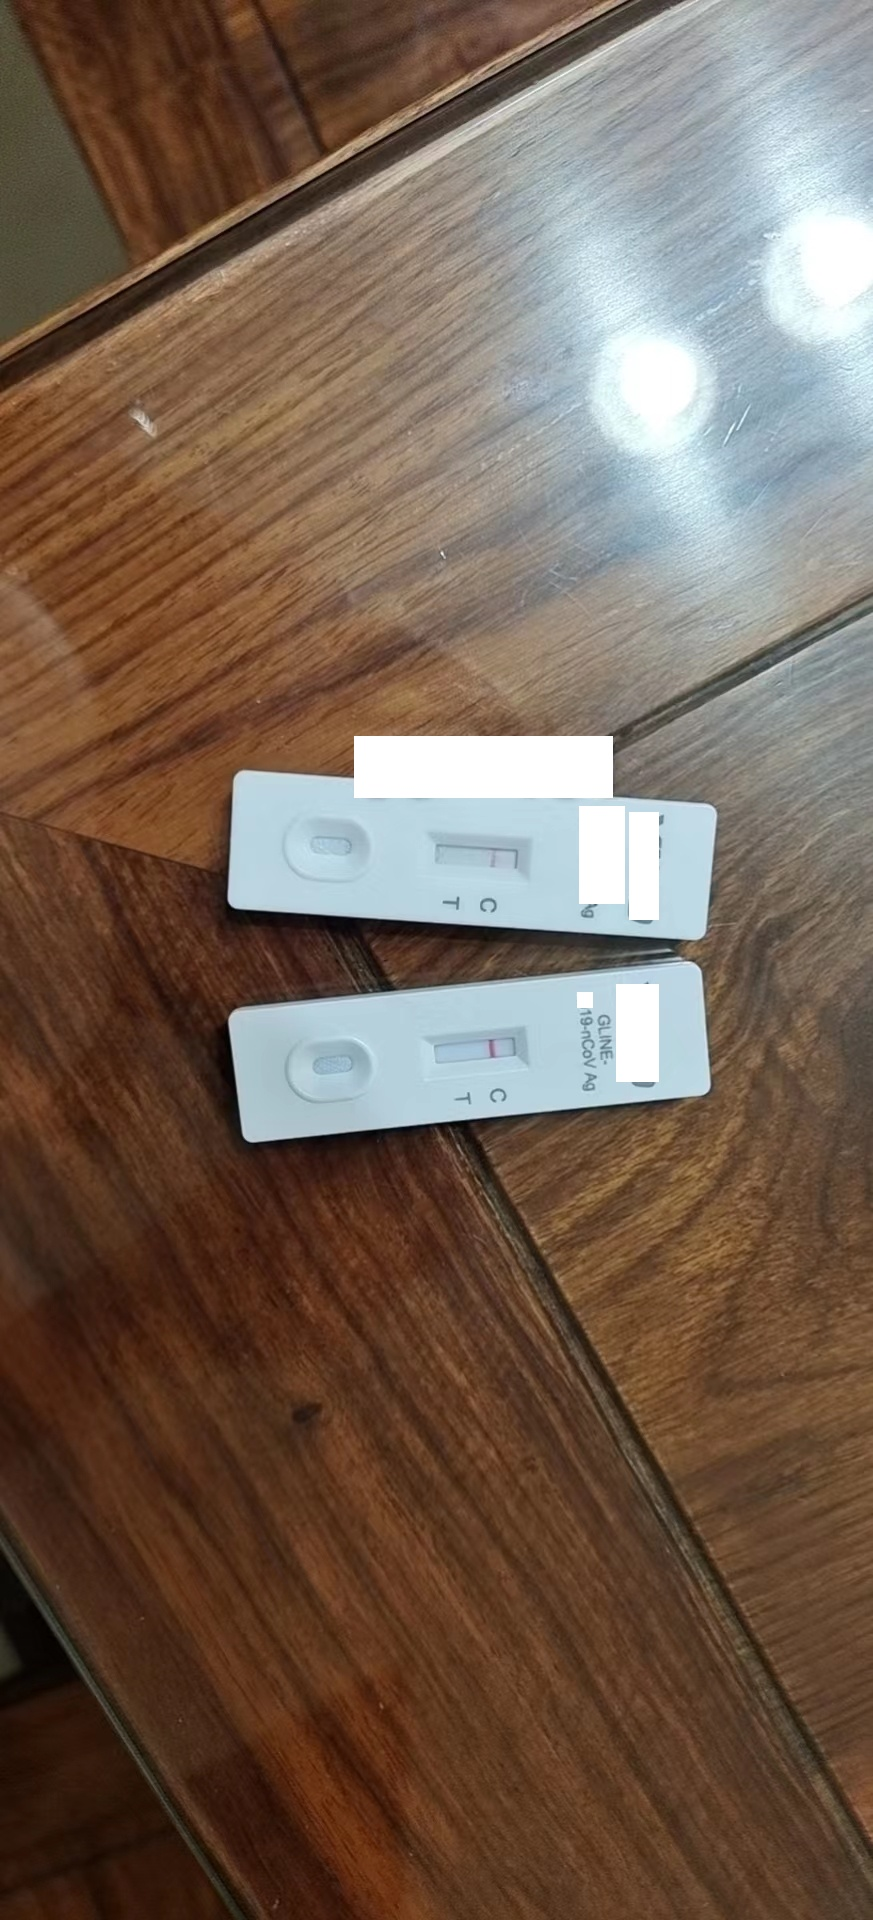negative: (422, 1035, 533, 1073), (425, 835, 525, 876)
